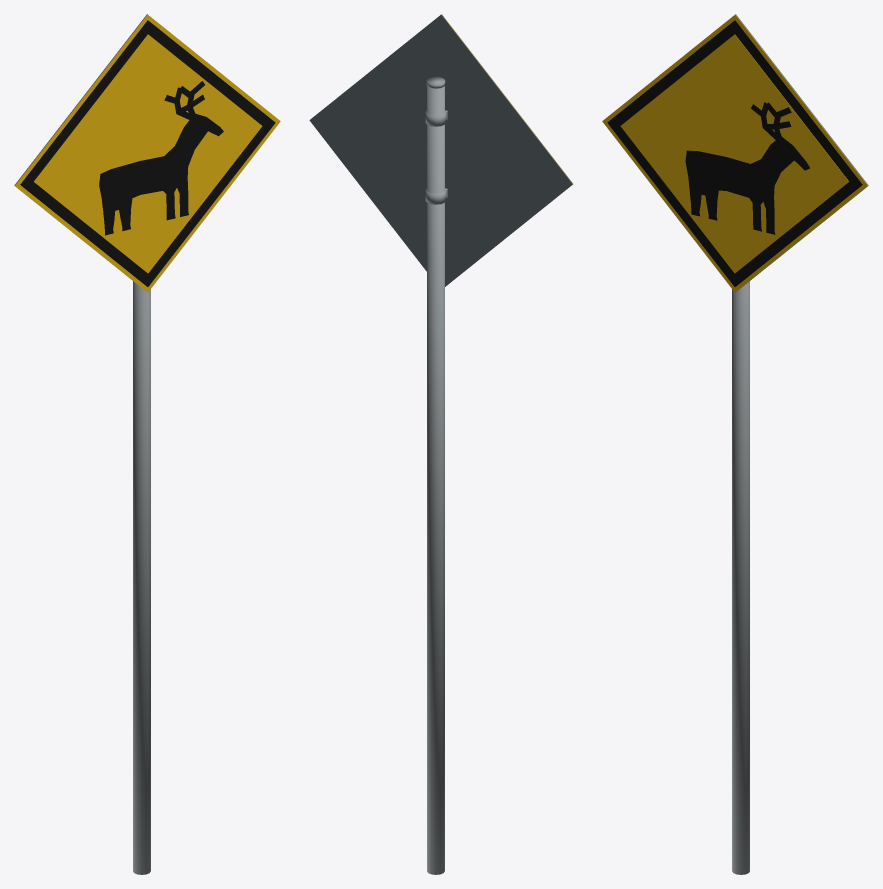
Rendered from PlacaAnimalPoste.fbx.
The picture shows the model from 3 angles, left to right: view 1: azimuth 30°, elevation 25°; view 2: azimuth 150°, elevation 25°; view 3: azimuth 330°, elevation 25°; orthographic projection.
Parts seen in each view (by area): view 1: PlacaAnimalPoste; view 2: PlacaAnimalPoste; view 3: PlacaAnimalPoste.
Boxes of the visible parts, left/top/right/bottom form: PlacaAnimalPoste: left=14, top=14, right=280, bottom=874; PlacaAnimalPoste: left=309, top=14, right=573, bottom=874; PlacaAnimalPoste: left=602, top=14, right=868, bottom=874.
Size of the model in its own units: 0.8485 by 2.62 by 0.065.
